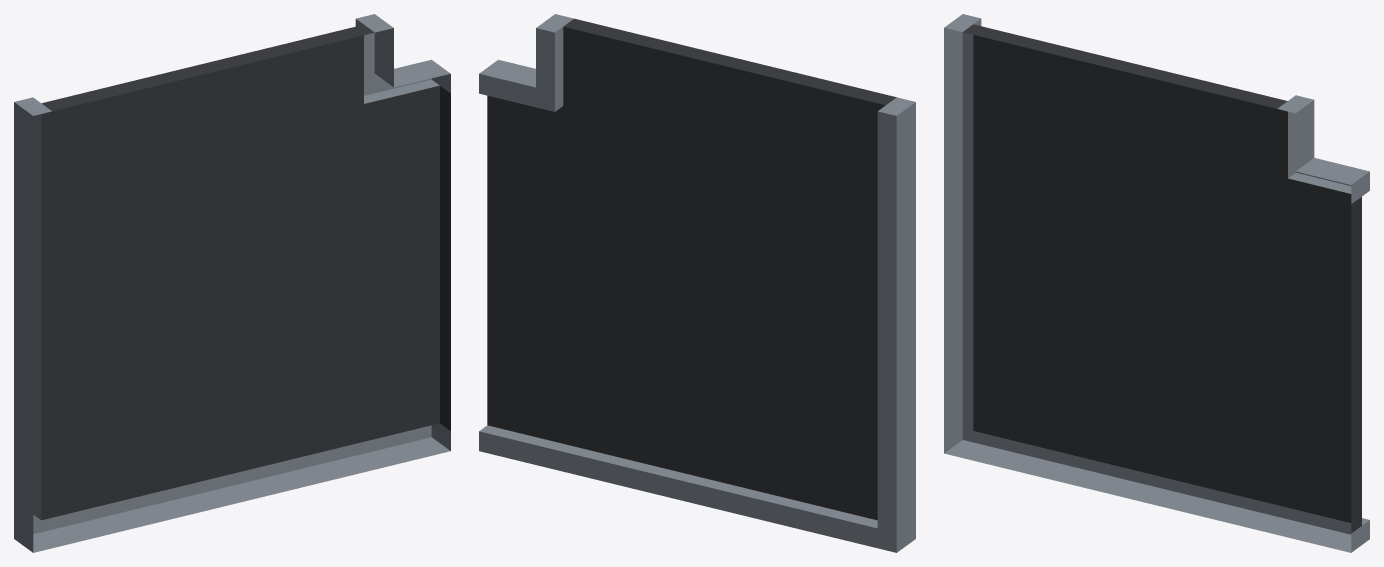
Rendered from SM_RoadSmall_Turn.FBX.
3 views of the same model, side by side, from view 1: azimuth 30°, elevation 25°; view 2: azimuth 150°, elevation 25°; view 3: azimuth 330°, elevation 25° (orthographic). The views are drawn at different scales.
Parts seen in each view (by area): view 1: SM_RoadSmall_Turn; view 2: SM_RoadSmall_Turn; view 3: SM_RoadSmall_Turn.
Boxes of the visible parts, x1,y1,x2,y2 form: SM_RoadSmall_Turn: (14,14,450,552); SM_RoadSmall_Turn: (479,14,915,552); SM_RoadSmall_Turn: (944,14,1369,552).
Size of the model in its own units: 44 by 3.5 by 44.01.
